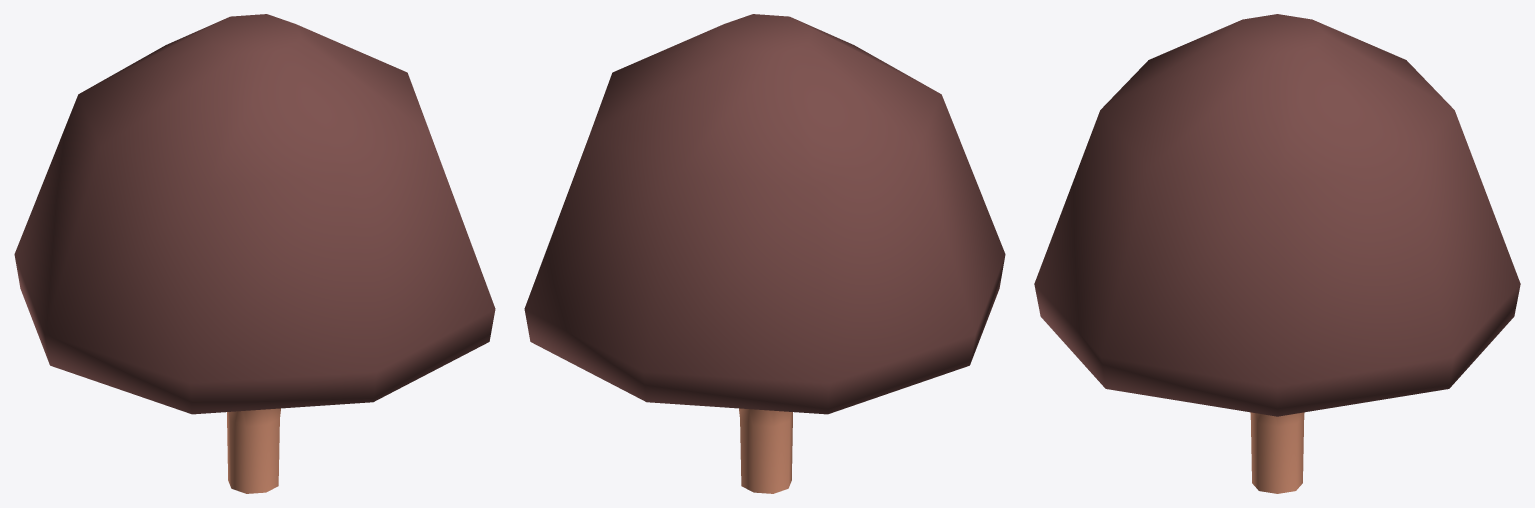
File: Mashroom_07.fbx
The picture shows the model from 3 angles, left to right: view 1: azimuth 30°, elevation 25°; view 2: azimuth 150°, elevation 25°; view 3: azimuth 270°, elevation 25°; orthographic projection.
Parts seen in each view (by area): view 1: Mashroom_07; view 2: Mashroom_07; view 3: Mashroom_07.
Boxes of the visible parts, left/top/right/bottom form: Mashroom_07: left=14, top=14, right=495, bottom=493; Mashroom_07: left=524, top=14, right=1005, bottom=493; Mashroom_07: left=1034, top=14, right=1520, bottom=493.
Bounding box in the file's own units: 37.11 × 37.83 × 37.11.
